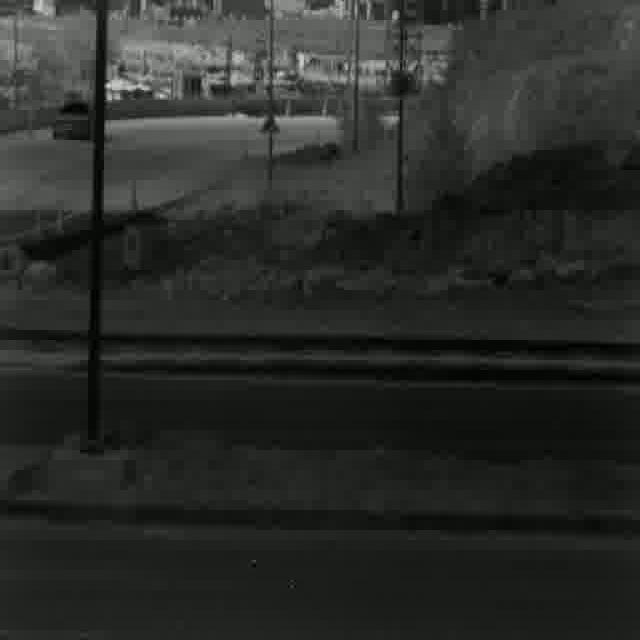Car: (49, 96, 93, 142)
